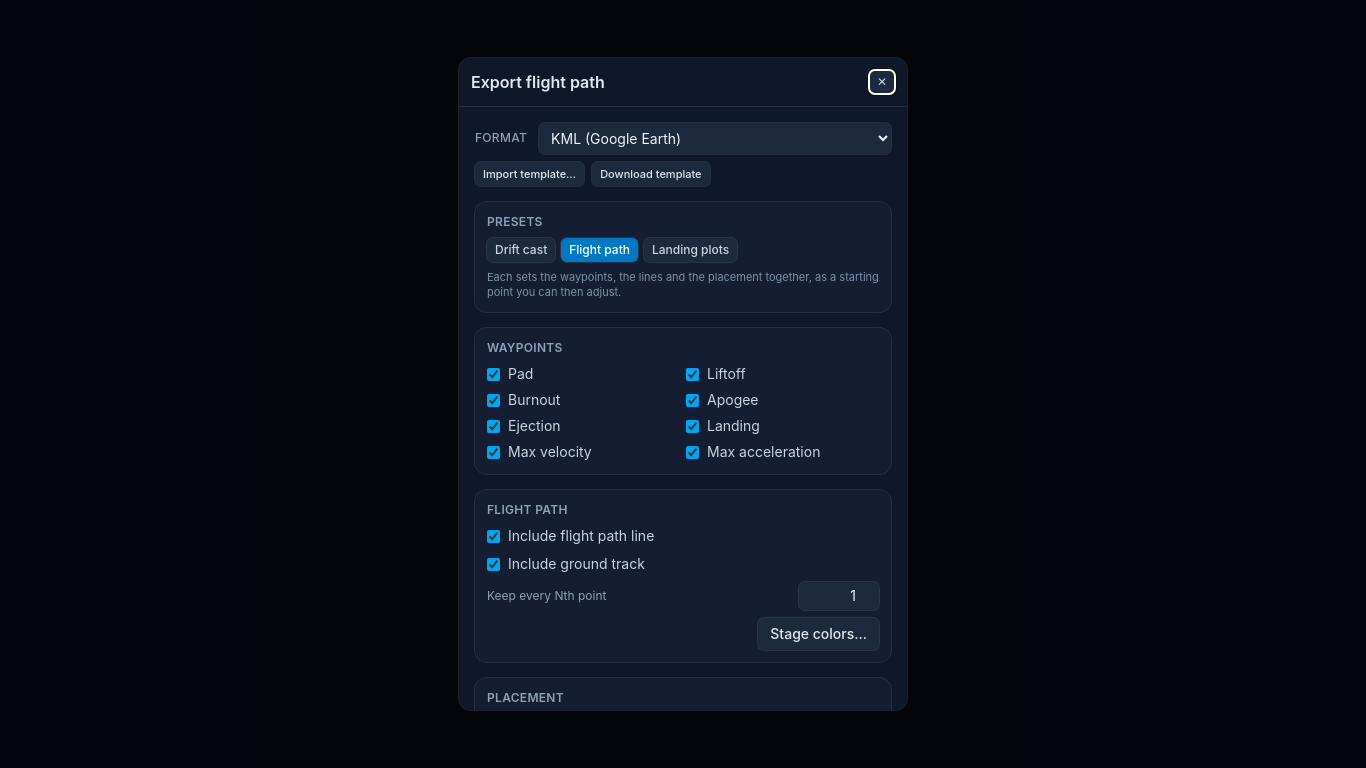
flight-path export dialog › writes the summary balloons out of the box, and no placement changes that
The image size is (1366, 768).
Click the button "Drift cast": [521, 250] box left=487, top=238, right=555, bottom=262
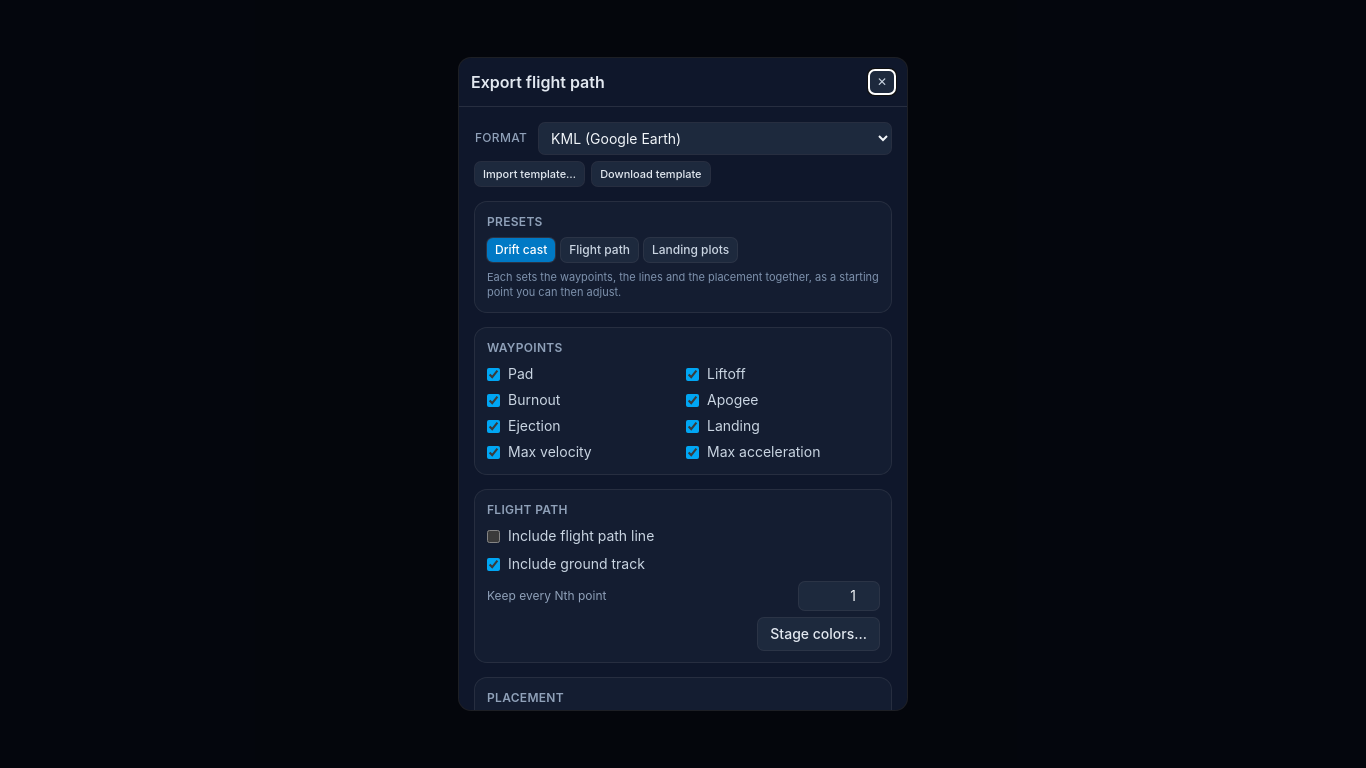
Click the button "Flight path": [600, 250] box left=561, top=238, right=638, bottom=262
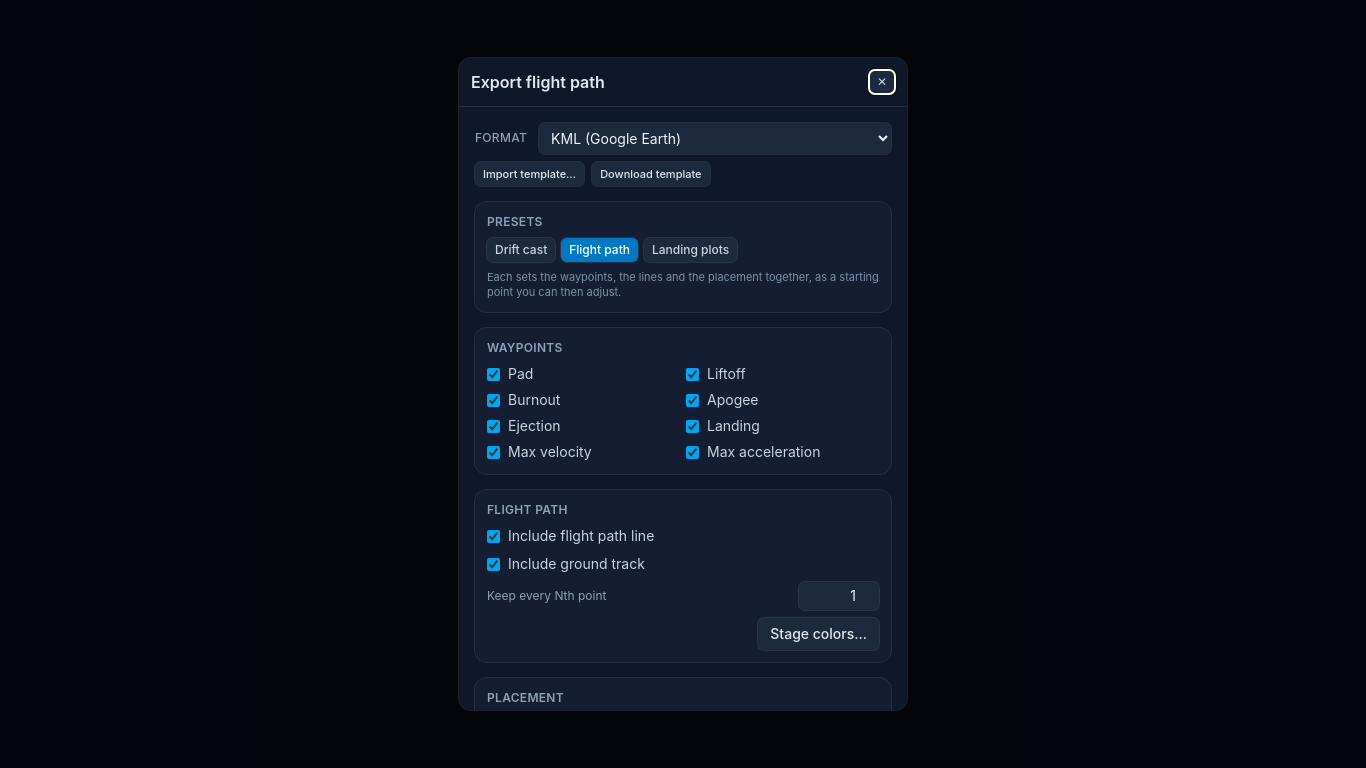
Click the button "Landing plots": [691, 250] box left=644, top=238, right=737, bottom=262
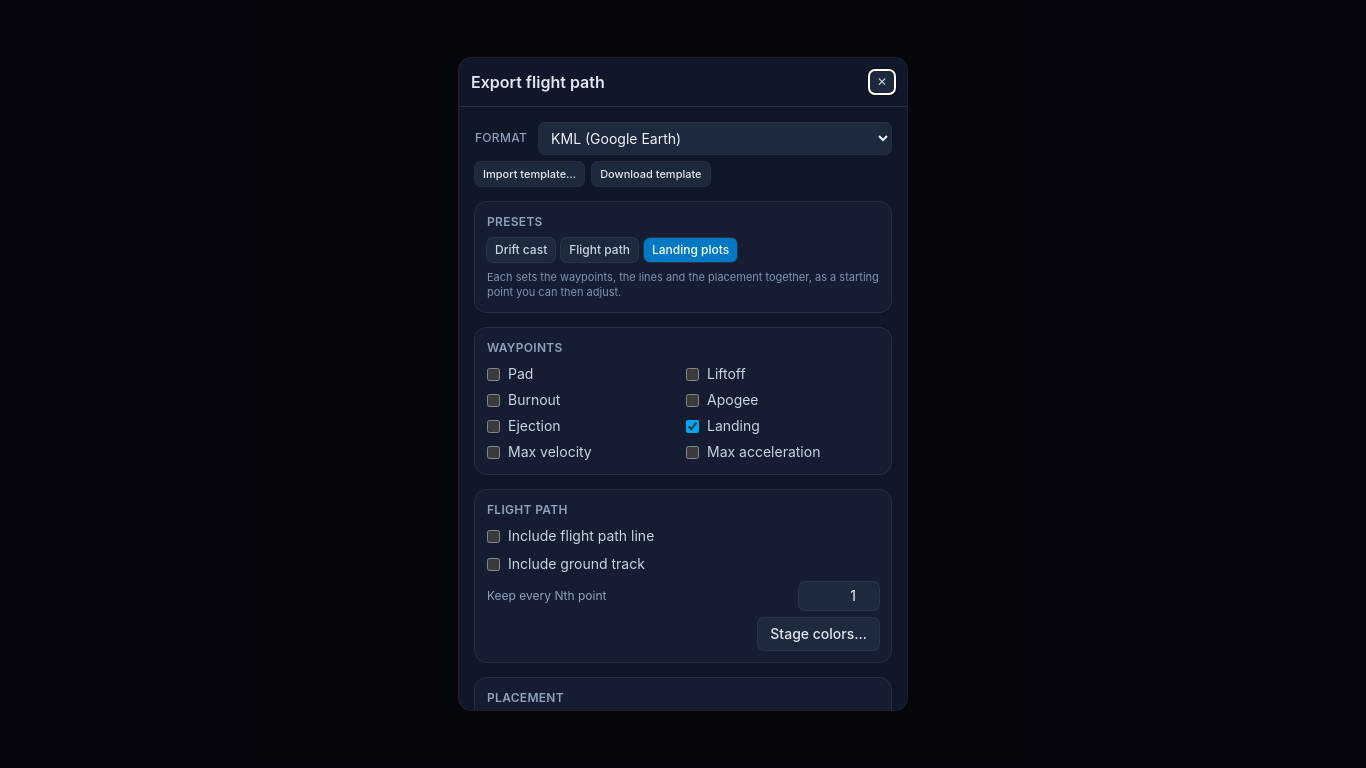
Click the button "Drift cast": [521, 250] box left=487, top=238, right=555, bottom=262
(page scrolled)
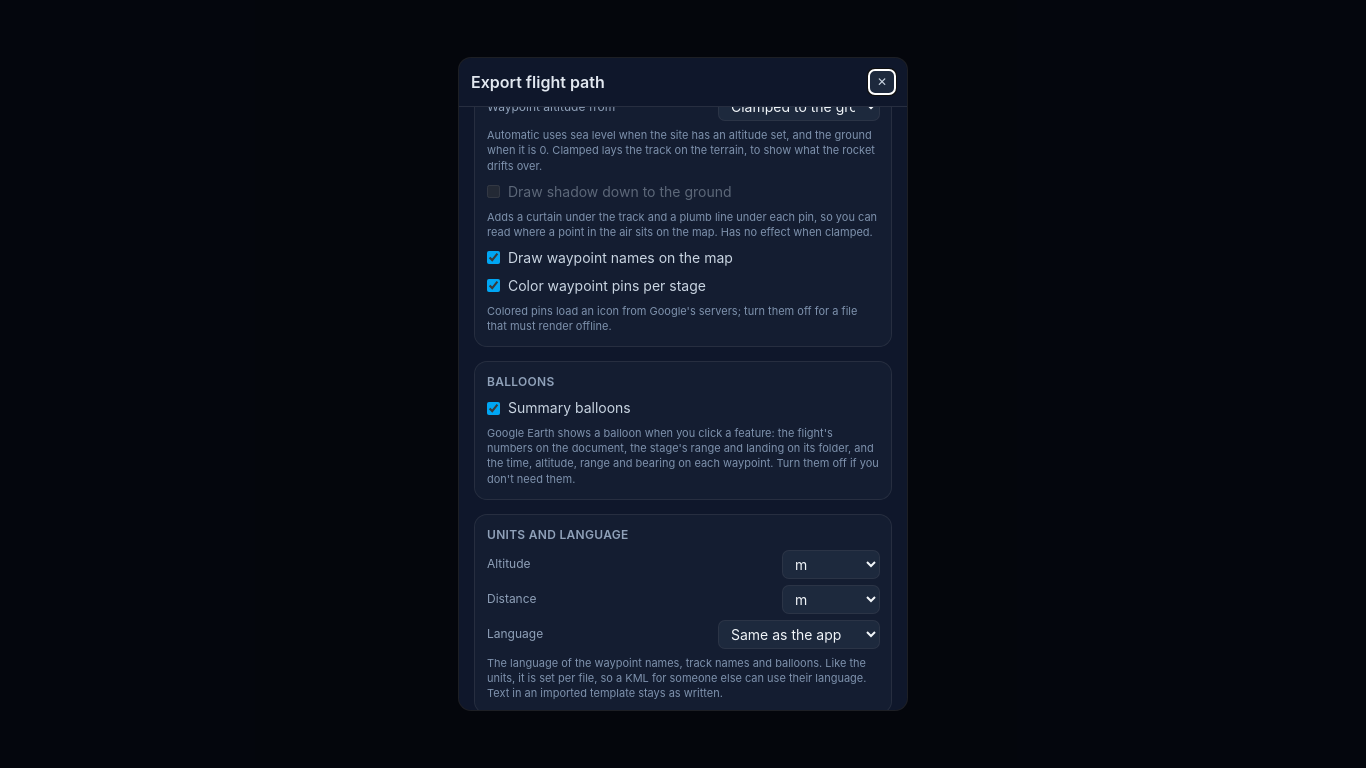
Click the checkbox labelled "Summary balloons": [494, 408] box left=487, top=402, right=500, bottom=415
(page scrolled)
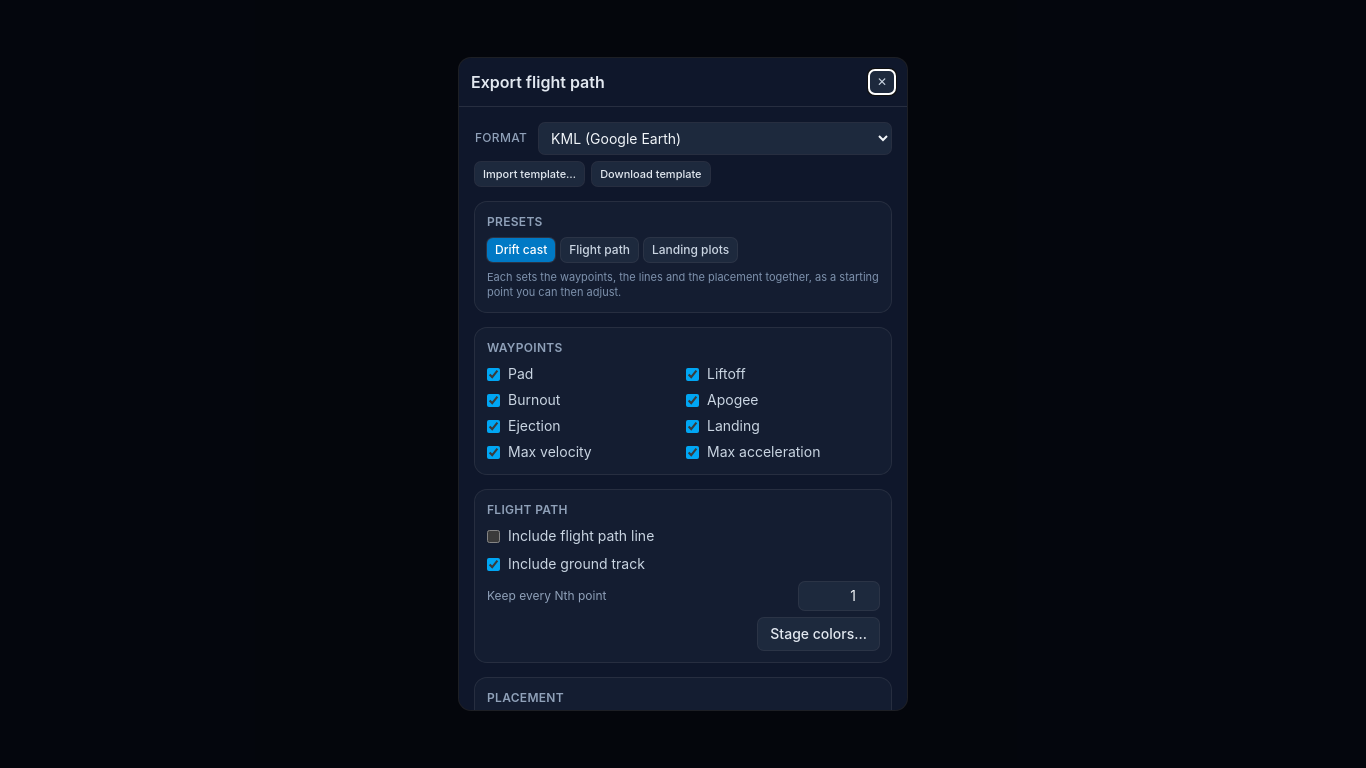
Now the button "Drift cast" is shown, box left=487, top=238, right=555, bottom=262
